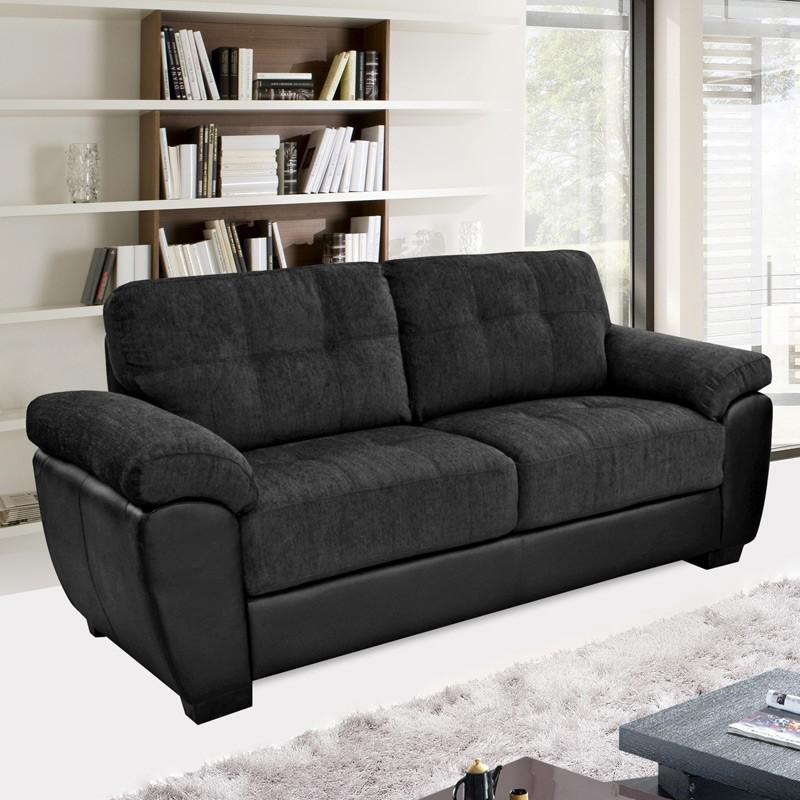chairs: (30, 244, 783, 729)
